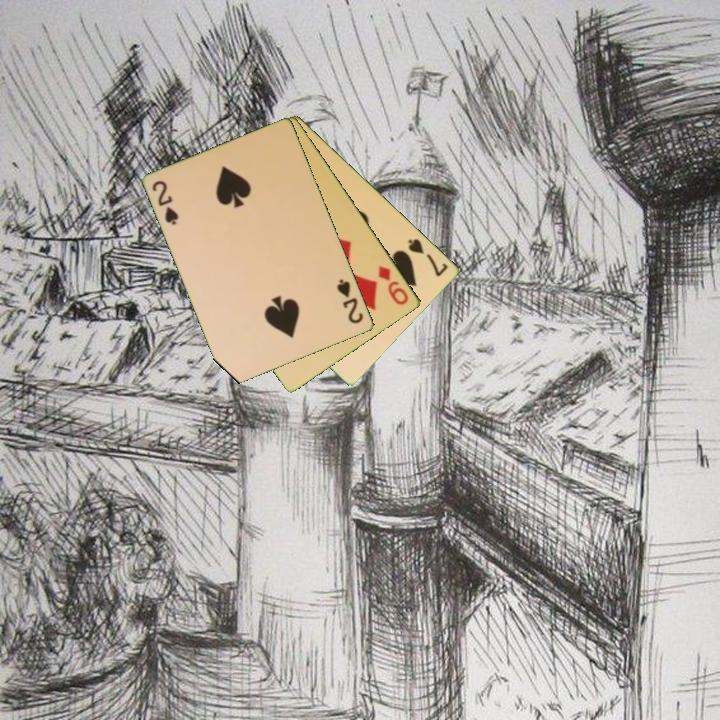2s: (333, 275, 367, 327), (149, 177, 182, 228)
7s: (405, 235, 451, 279)
9d: (375, 262, 412, 308)
